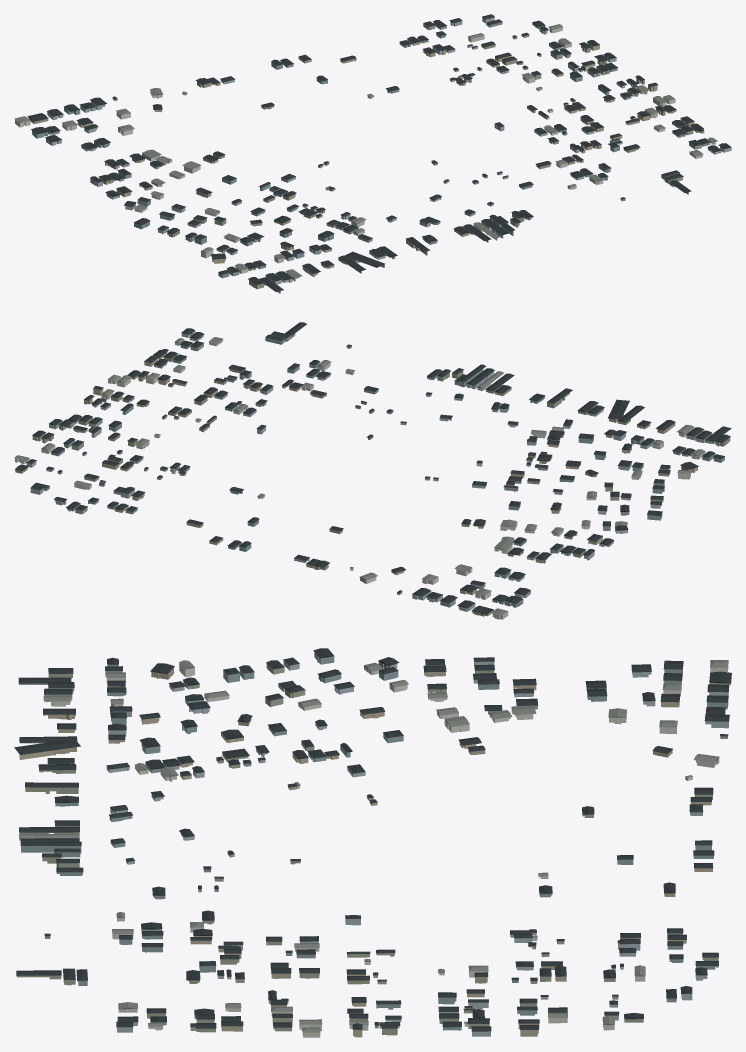
Rendered from neighborhood-context.glb.
3 renders of one model, top to bottom at view 1: azimuth 30°, elevation 25°; view 2: azimuth 150°, elevation 25°; view 3: azimuth 270°, elevation 25°, orthographic. The views are drawn at different scales.
Visible parts, largest first — view 1: NeighborhoodContext-distant-roof-distant-1-0-surface, NeighborhoodContext-distant-roof-distant--1-0-surface, NeighborhoodContext-distant-siding-distant-1-0-surface, NeighborhoodContext-distant-roof-distant-0--1-surface, NeighborhoodContext-distant-siding-distant--1-0-surface, NeighborhoodContext-distant-roof-distant-0-0-surface, NeighborhoodContext-distant-siding-distant-0-0-surface, NeighborhoodContext-distant-siding-distant-0--1-surface, NeighborhoodContext-distant-roof-distant--1--1-surface, NeighborhoodContext-distant-siding-distant--1--1-surface, NeighborhoodContext-distant-roof-distant-1--1-surface, NeighborhoodContext-distant-roof-distant--1-1-surface; view 2: NeighborhoodContext-distant-roof-distant-1-0-surface, NeighborhoodContext-distant-roof-distant--1-0-surface, NeighborhoodContext-distant-siding-distant-1-0-surface, NeighborhoodContext-distant-roof-distant-0--1-surface, NeighborhoodContext-distant-roof-distant-0-0-surface, NeighborhoodContext-distant-siding-distant--1-0-surface, NeighborhoodContext-distant-siding-distant-0-0-surface, NeighborhoodContext-distant-siding-distant-0--1-surface, NeighborhoodContext-distant-roof-distant--1--1-surface, NeighborhoodContext-distant-siding-distant--1--1-surface, NeighborhoodContext-distant-roof-distant-1--1-surface, NeighborhoodContext-distant-roof-distant--1-1-surface; view 3: NeighborhoodContext-distant-roof-distant-1-0-surface, NeighborhoodContext-distant-roof-distant--1-0-surface, NeighborhoodContext-distant-roof-distant-0--1-surface, NeighborhoodContext-distant-roof-distant-0-0-surface, NeighborhoodContext-distant-siding-distant-1-0-surface, NeighborhoodContext-distant-siding-distant--1-0-surface, NeighborhoodContext-distant-siding-distant-0-0-surface, NeighborhoodContext-distant-siding-distant-0--1-surface, NeighborhoodContext-distant-roof-distant--1--1-surface, NeighborhoodContext-distant-siding-distant--1--1-surface, NeighborhoodContext-distant-roof-distant-1--1-surface, NeighborhoodContext-distant-roof-distant--1-1-surface (+2 smaller).
Part boxes in pixels (x1,y1,x2,y2): NeighborhoodContext-distant-roof-distant-1-0-surface: (436, 14, 703, 150); NeighborhoodContext-distant-roof-distant--1-0-surface: (31, 108, 293, 252); NeighborhoodContext-distant-siding-distant-1-0-surface: (436, 17, 704, 152); NeighborhoodContext-distant-roof-distant-0--1-surface: (318, 163, 625, 271); NeighborhoodContext-distant-siding-distant--1-0-surface: (32, 112, 291, 258); NeighborhoodContext-distant-roof-distant-0-0-surface: (152, 35, 592, 225); NeighborhoodContext-distant-siding-distant-0-0-surface: (153, 38, 592, 227); NeighborhoodContext-distant-siding-distant-0--1-surface: (318, 165, 625, 273); NeighborhoodContext-distant-roof-distant--1--1-surface: (211, 241, 334, 291); NeighborhoodContext-distant-siding-distant--1--1-surface: (212, 244, 334, 293); NeighborhoodContext-distant-roof-distant-1--1-surface: (661, 137, 731, 192); NeighborhoodContext-distant-roof-distant--1-1-surface: (14, 97, 107, 122); NeighborhoodContext-distant-roof-distant-1-0-surface: (14, 349, 254, 502); NeighborhoodContext-distant-roof-distant--1-0-surface: (422, 450, 690, 603); NeighborhoodContext-distant-siding-distant-1-0-surface: (15, 352, 254, 504); NeighborhoodContext-distant-roof-distant-0--1-surface: (287, 344, 644, 440); NeighborhoodContext-distant-roof-distant-0-0-surface: (107, 379, 580, 572); NeighborhoodContext-distant-siding-distant--1-0-surface: (422, 453, 690, 607); NeighborhoodContext-distant-siding-distant-0-0-surface: (107, 382, 580, 575); NeighborhoodContext-distant-siding-distant-0--1-surface: (287, 346, 630, 443); NeighborhoodContext-distant-roof-distant--1--1-surface: (613, 420, 731, 469); NeighborhoodContext-distant-siding-distant--1--1-surface: (613, 423, 730, 472); NeighborhoodContext-distant-roof-distant-1--1-surface: (174, 322, 306, 347); NeighborhoodContext-distant-roof-distant--1-1-surface: (412, 588, 508, 615); NeighborhoodContext-distant-roof-distant-1-0-surface: (186, 954, 692, 1032); NeighborhoodContext-distant-roof-distant--1-0-surface: (168, 648, 683, 732); NeighborhoodContext-distant-roof-distant-0--1-surface: (14, 734, 180, 947); NeighborhoodContext-distant-roof-distant-0-0-surface: (176, 729, 703, 954); NeighborhoodContext-distant-siding-distant-1-0-surface: (187, 959, 692, 1037); NeighborhoodContext-distant-siding-distant--1-0-surface: (179, 652, 682, 736); NeighborhoodContext-distant-siding-distant-0-0-surface: (177, 733, 702, 958); NeighborhoodContext-distant-siding-distant-0--1-surface: (19, 740, 179, 952); NeighborhoodContext-distant-roof-distant--1--1-surface: (18, 657, 174, 730); NeighborhoodContext-distant-siding-distant--1--1-surface: (19, 664, 184, 736); NeighborhoodContext-distant-roof-distant-1--1-surface: (16, 968, 166, 1027); NeighborhoodContext-distant-roof-distant--1-1-surface: (704, 660, 731, 721).
Bounding box in the file's own units: 889 × 10.05 × 704.
